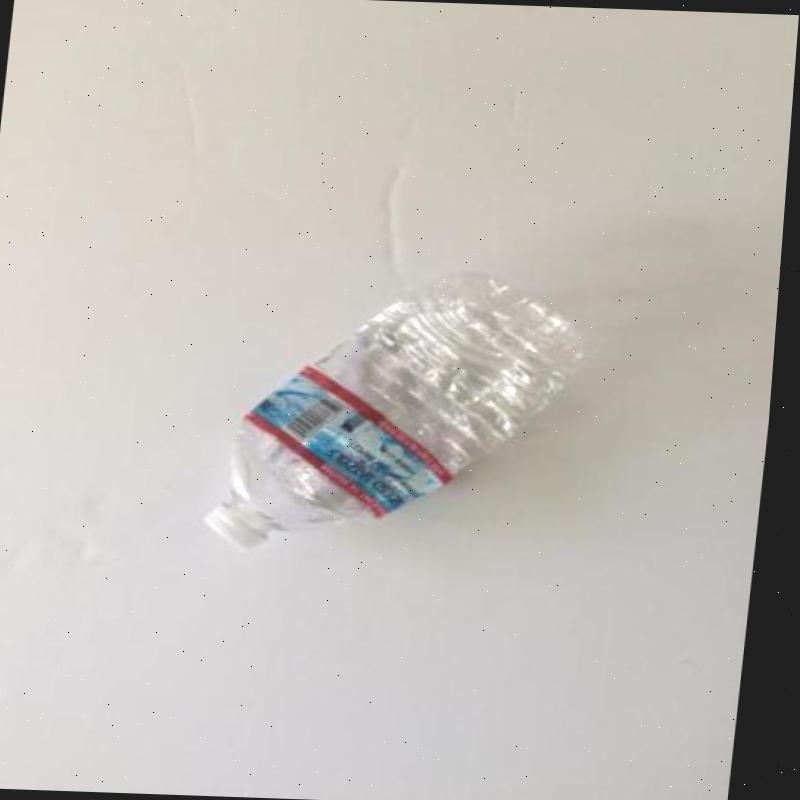botella: (201, 260, 597, 556)
